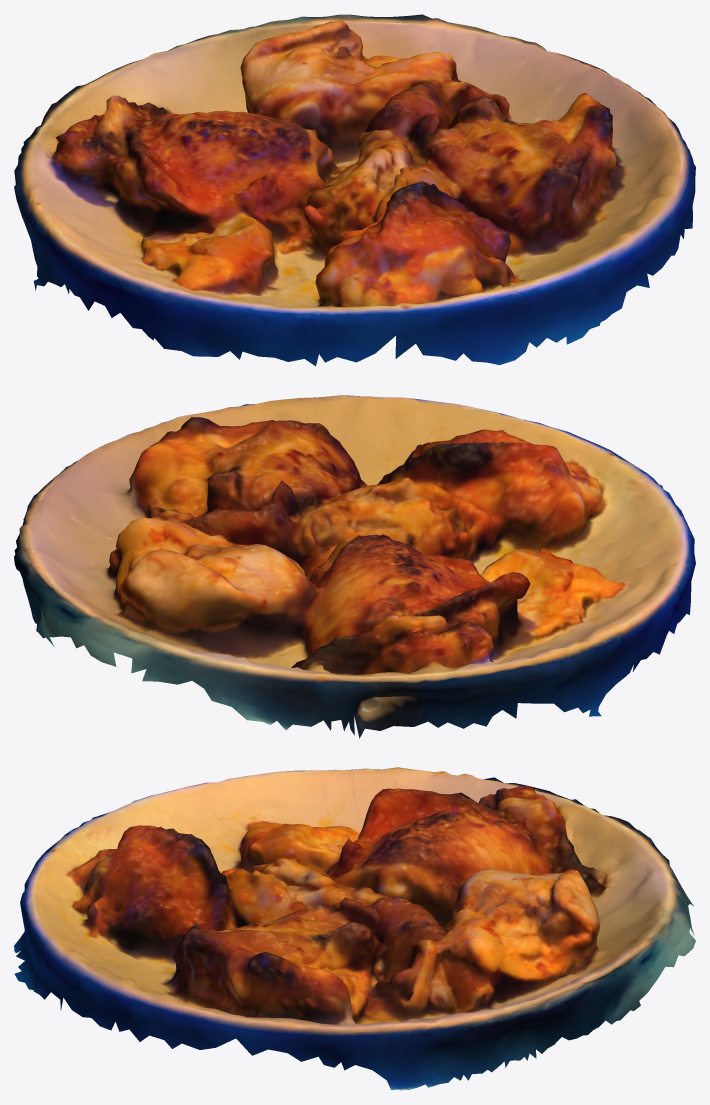
Rendered from SpicyChickenThighs.glb.
3 renders of one model, top to bottom at view 1: azimuth 30°, elevation 25°; view 2: azimuth 150°, elevation 25°; view 3: azimuth 270°, elevation 25°, orthographic. The views are drawn at different scales.
Visible parts, largest first — view 1: Edit; view 2: Edit; view 3: Edit.
Boxes of the visible parts, x1=… form: Edit: x1=14, y1=14, x2=695, y2=366; Edit: x1=14, y1=395, x2=695, y2=738; Edit: x1=14, y1=767, x2=695, y2=1090.
Bounding box in the file's own units: 0.6292 × 0.1305 × 0.648.
Materials: 1 (1 with a texture image).
